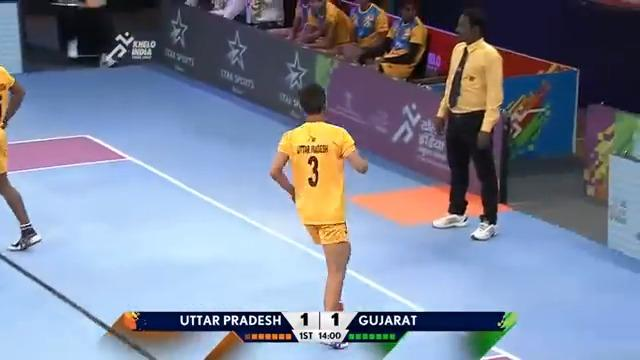Player: (269, 82, 368, 349), (0, 64, 42, 251), (375, 0, 427, 79)
referee: (431, 8, 504, 240)
